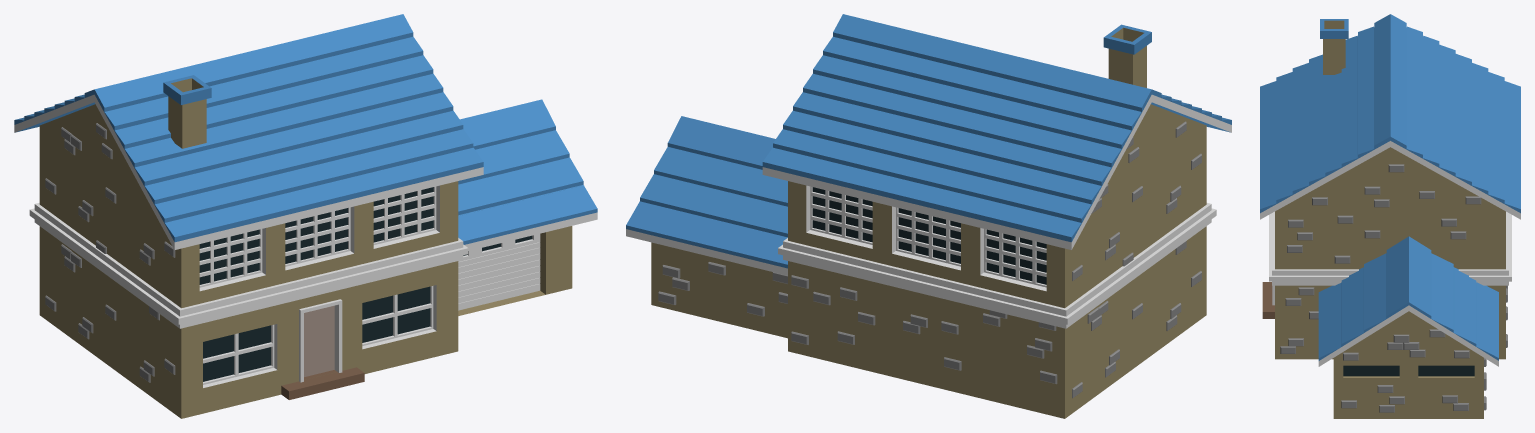
The model's file is 22 House_3.fbx.
The picture shows the model from 3 angles, left to right: view 1: azimuth 30°, elevation 25°; view 2: azimuth 150°, elevation 25°; view 3: azimuth 270°, elevation 25°; orthographic projection. The views are drawn at different scales.
Visible parts, largest first — view 1: House_3; view 2: House_3; view 3: House_3.
Boxes of the visible parts, x1,y1,x2,y2 form: House_3: (14,14,597,418); House_3: (626,14,1231,418); House_3: (1260,14,1520,418).
Bounding box in the file's own units: 287 × 177 × 174.
